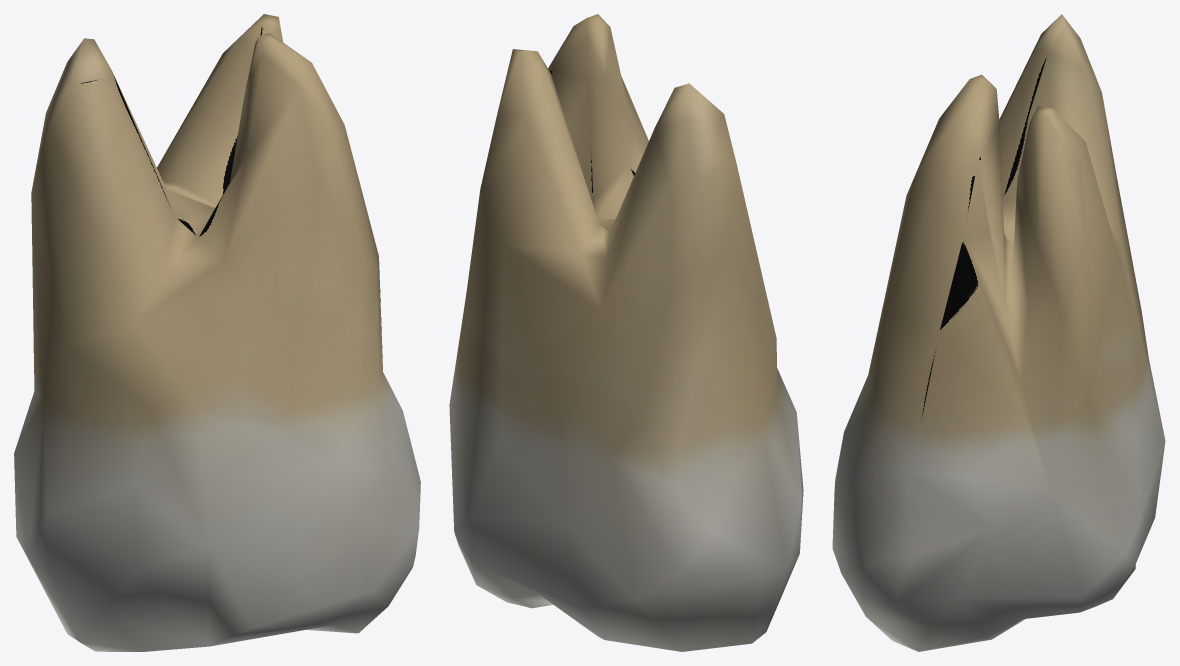
The picture shows the model from 3 angles, left to right: view 1: azimuth 30°, elevation 25°; view 2: azimuth 150°, elevation 25°; view 3: azimuth 270°, elevation 25°; orthographic projection. The views are drawn at different scales.
Parts seen in each view (by area): view 1: Object_2; view 2: Object_2; view 3: Object_2.
Boxes of the visible parts, x1,y1,x2,y2 form: Object_2: (14, 14, 420, 651); Object_2: (449, 14, 803, 651); Object_2: (832, 14, 1165, 651).
Size of the model in its own units: 0.9254 by 1.53 by 0.8388.
1 material, 1 textured.
